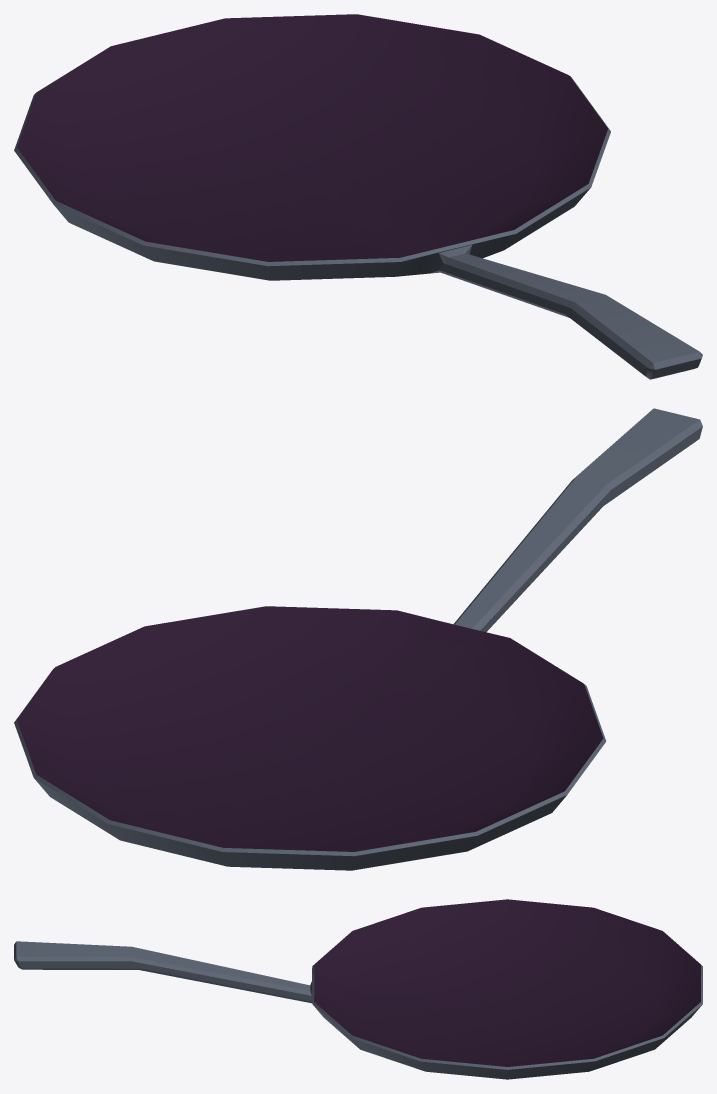
File: PROP_Frying_Pan.fbx
3 views of the same model, one above another, from view 1: azimuth 30°, elevation 25°; view 2: azimuth 150°, elevation 25°; view 3: azimuth 270°, elevation 25° (orthographic). The views are drawn at different scales.
Visible parts, largest first — view 1: Pan; view 2: Pan; view 3: Pan.
Boxes of the visible parts, bbox=[...] form: Pan: bbox=[14, 14, 702, 379]; Pan: bbox=[14, 408, 702, 870]; Pan: bbox=[14, 899, 702, 1079].
Bounding box in the file's own units: 37.84 × 6.88 × 65.05.
